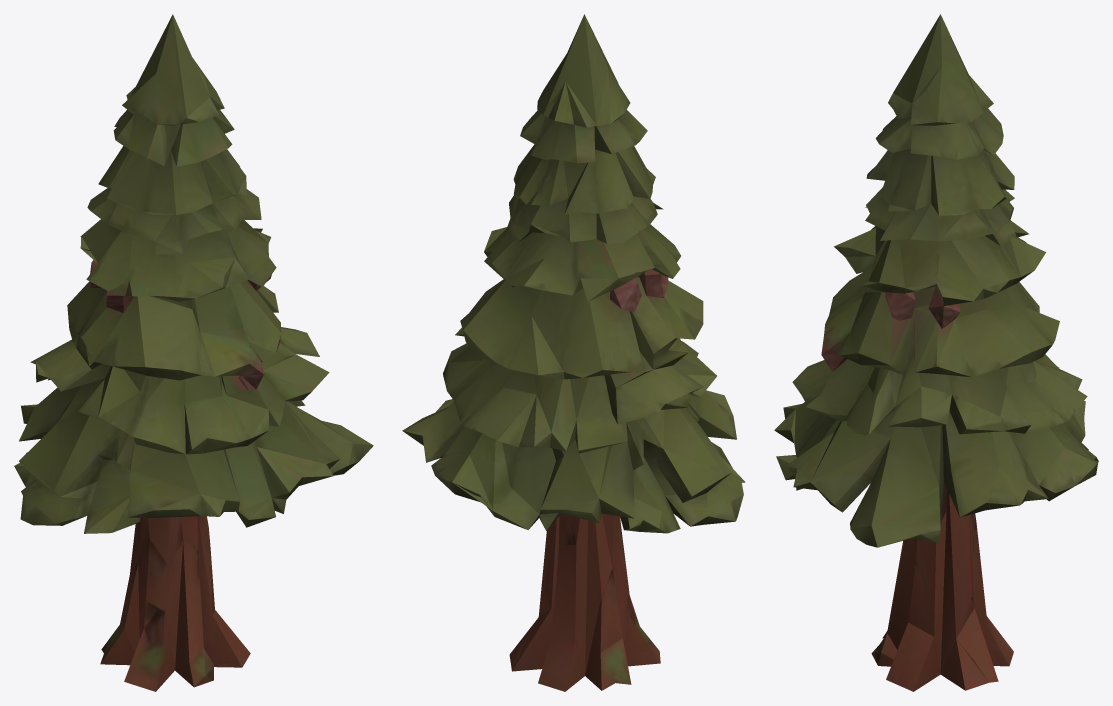
The model's file is bg_forest_pine_1_lod0.glb.
3 renders of one model, left to right at view 1: azimuth 30°, elevation 25°; view 2: azimuth 150°, elevation 25°; view 3: azimuth 270°, elevation 25°, orthographic.
Parts seen in each view (by area): view 1: sway, body; view 2: sway, body; view 3: sway, body.
Boxes of the visible parts, bbox=[...] form: sway: bbox=[14, 14, 373, 533]; body: bbox=[73, 229, 271, 691]; sway: bbox=[402, 14, 745, 533]; body: bbox=[489, 269, 744, 691]; sway: bbox=[774, 14, 1098, 547]; body: bbox=[821, 284, 1013, 691].
Bounding box in the file's own units: 3.13 × 6.01 × 2.73.
1 material, 1 textured.
